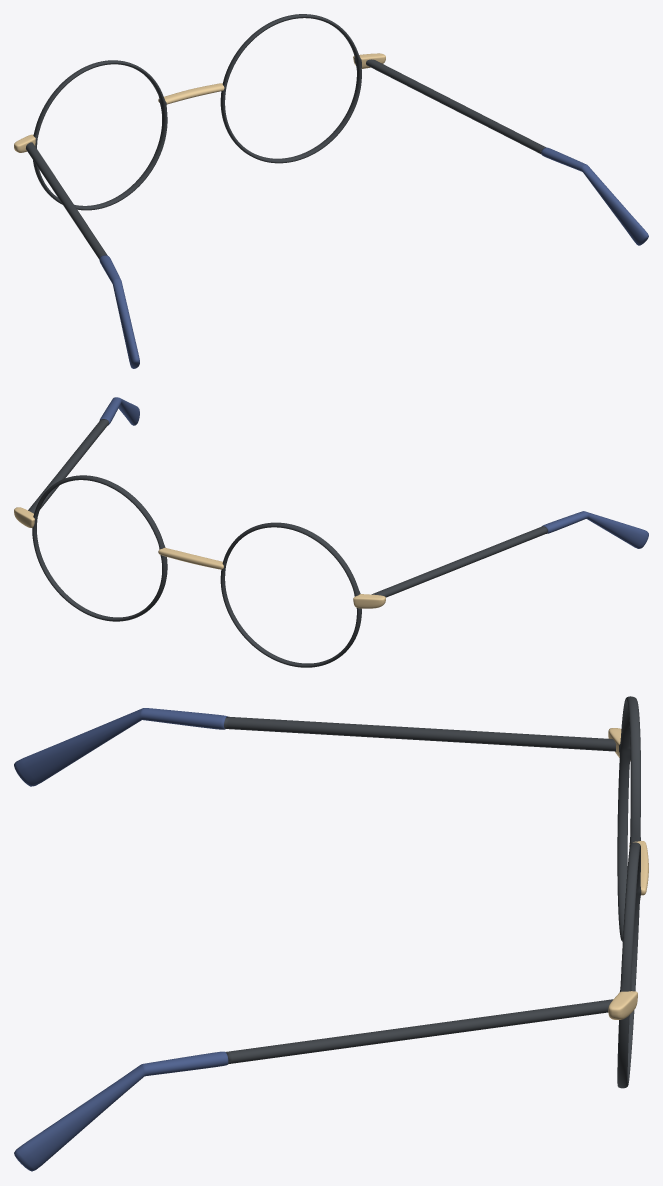
File: round_frame.fbx
The picture shows the model from 3 angles, top to bottom: view 1: azimuth 30°, elevation 25°; view 2: azimuth 150°, elevation 25°; view 3: azimuth 270°, elevation 25°; orthographic projection. The views are drawn at different scales.
Visible parts, largest first — view 1: frame.000; view 2: frame.000; view 3: frame.000.
Part boxes in pixels (x1,y1,x2,y2): frame.000: [14, 14, 648, 368]; frame.000: [14, 397, 648, 667]; frame.000: [14, 696, 648, 1171].
Size of the model in its own units: 18.72 by 4.96 by 12.78.
